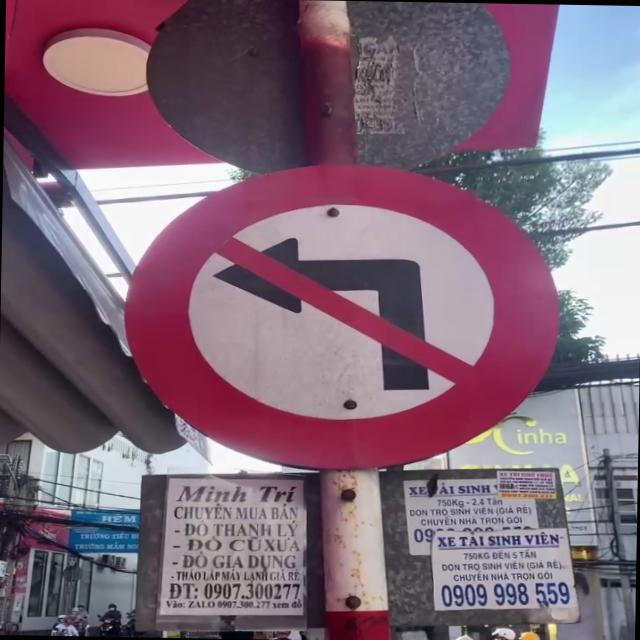Cam_Re_Trai: (118, 158, 562, 472)
